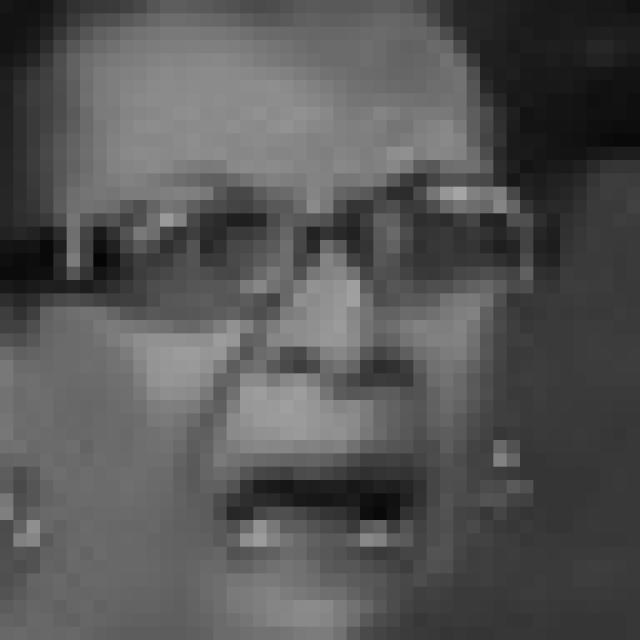disgust: (119, 171, 488, 590)
